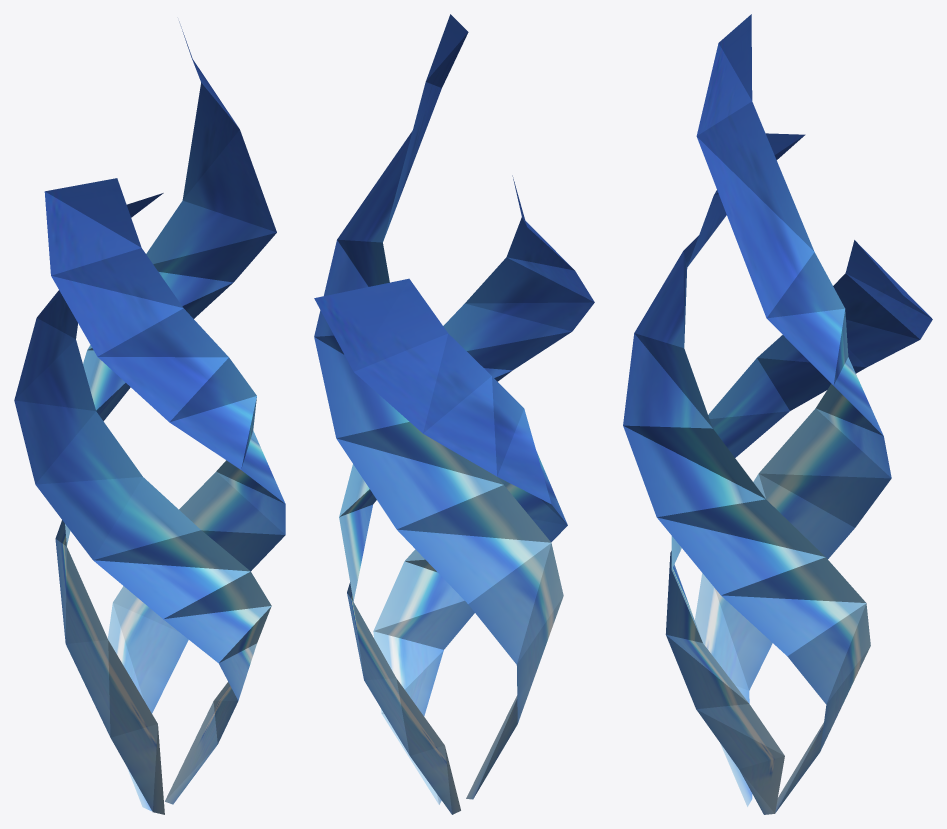
The model's file is M_speedluoxuan_002.FBX.
The picture shows the model from 3 angles, left to right: view 1: azimuth 30°, elevation 25°; view 2: azimuth 150°, elevation 25°; view 3: azimuth 270°, elevation 25°; orthographic projection. The views are drawn at different scales.
Visible parts, largest first — view 1: qx; view 2: qx; view 3: qx.
Part boxes in pixels (x1,y1,x2,y2): qx: (14, 21, 285, 814); qx: (314, 14, 594, 814); qx: (623, 14, 932, 814).
Size of the model in its own units: 15.02 by 49.21 by 17.14.
